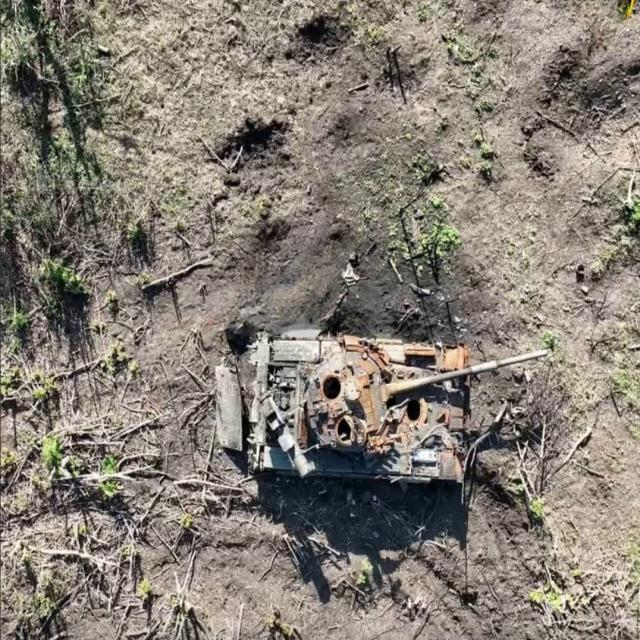MBT: (218, 330, 551, 497)
